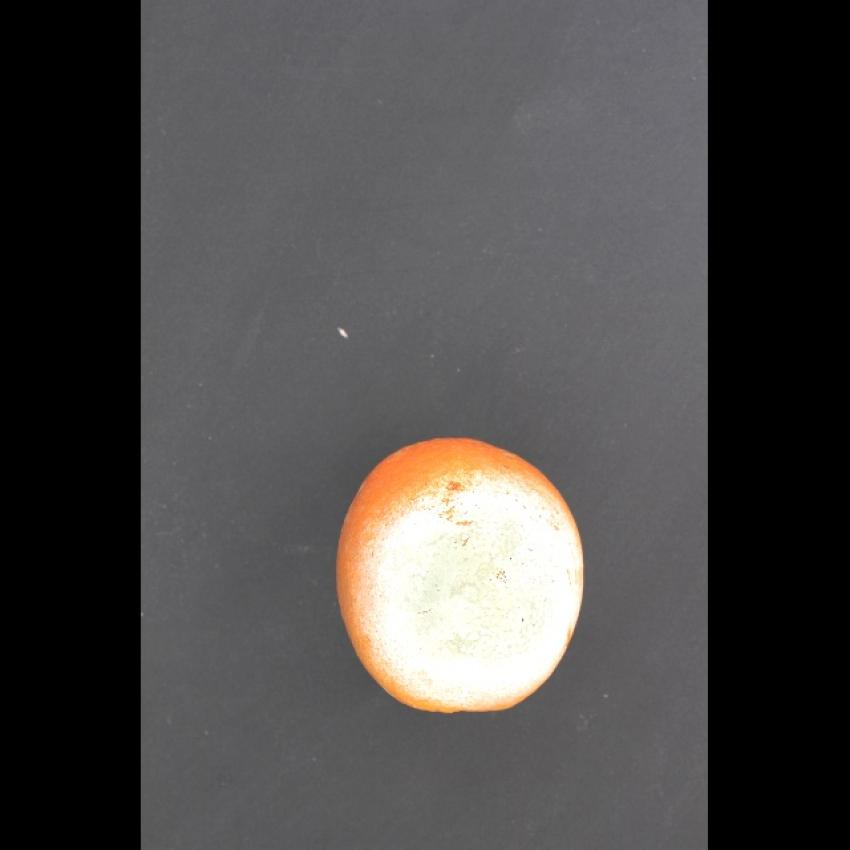Mal estado: (328, 427, 594, 727)
